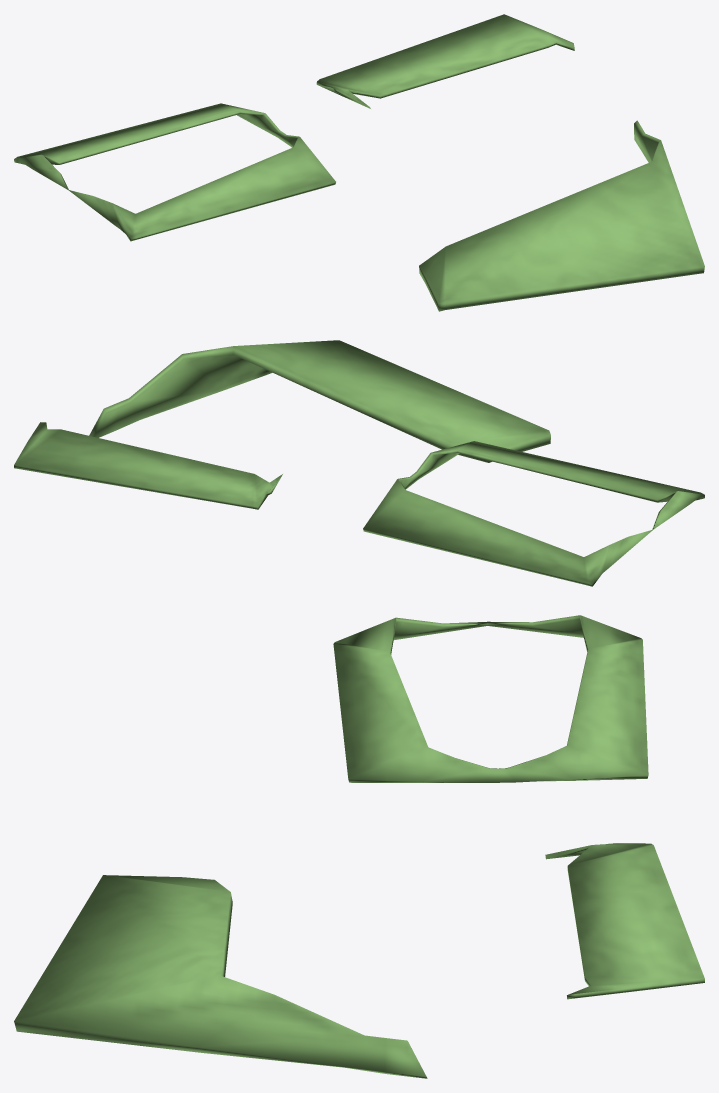
File: TentScraps_Green.obj
3 renders of one model, top to bottom at view 1: azimuth 30°, elevation 25°; view 2: azimuth 150°, elevation 25°; view 3: azimuth 270°, elevation 25°, orthographic. The views are drawn at different scales.
Parts seen in each view (by area): view 1: TentScraps.001_Material, TentScraps.002_Material, TentScraps_Material; view 2: TentScraps.001_Material, TentScraps.002_Material, TentScraps_Material; view 3: TentScraps.001_Material, TentScraps.002_Material, TentScraps_Material.
Part boxes in pixels (x1,y1,x2,y2): TentScraps.001_Material: (419,120,704,311); TentScraps.002_Material: (14,103,335,241); TentScraps_Material: (316,14,574,108); TentScraps.001_Material: (89,340,550,462); TentScraps.002_Material: (363,441,704,586); TentScraps_Material: (14,422,282,509); TentScraps.001_Material: (14,875,427,1078); TentScraps.002_Material: (333,615,648,782); TentScraps_Material: (545,843,704,999).
Bounding box in the file's own units: 5.78 × 0.8765 × 4.6.
